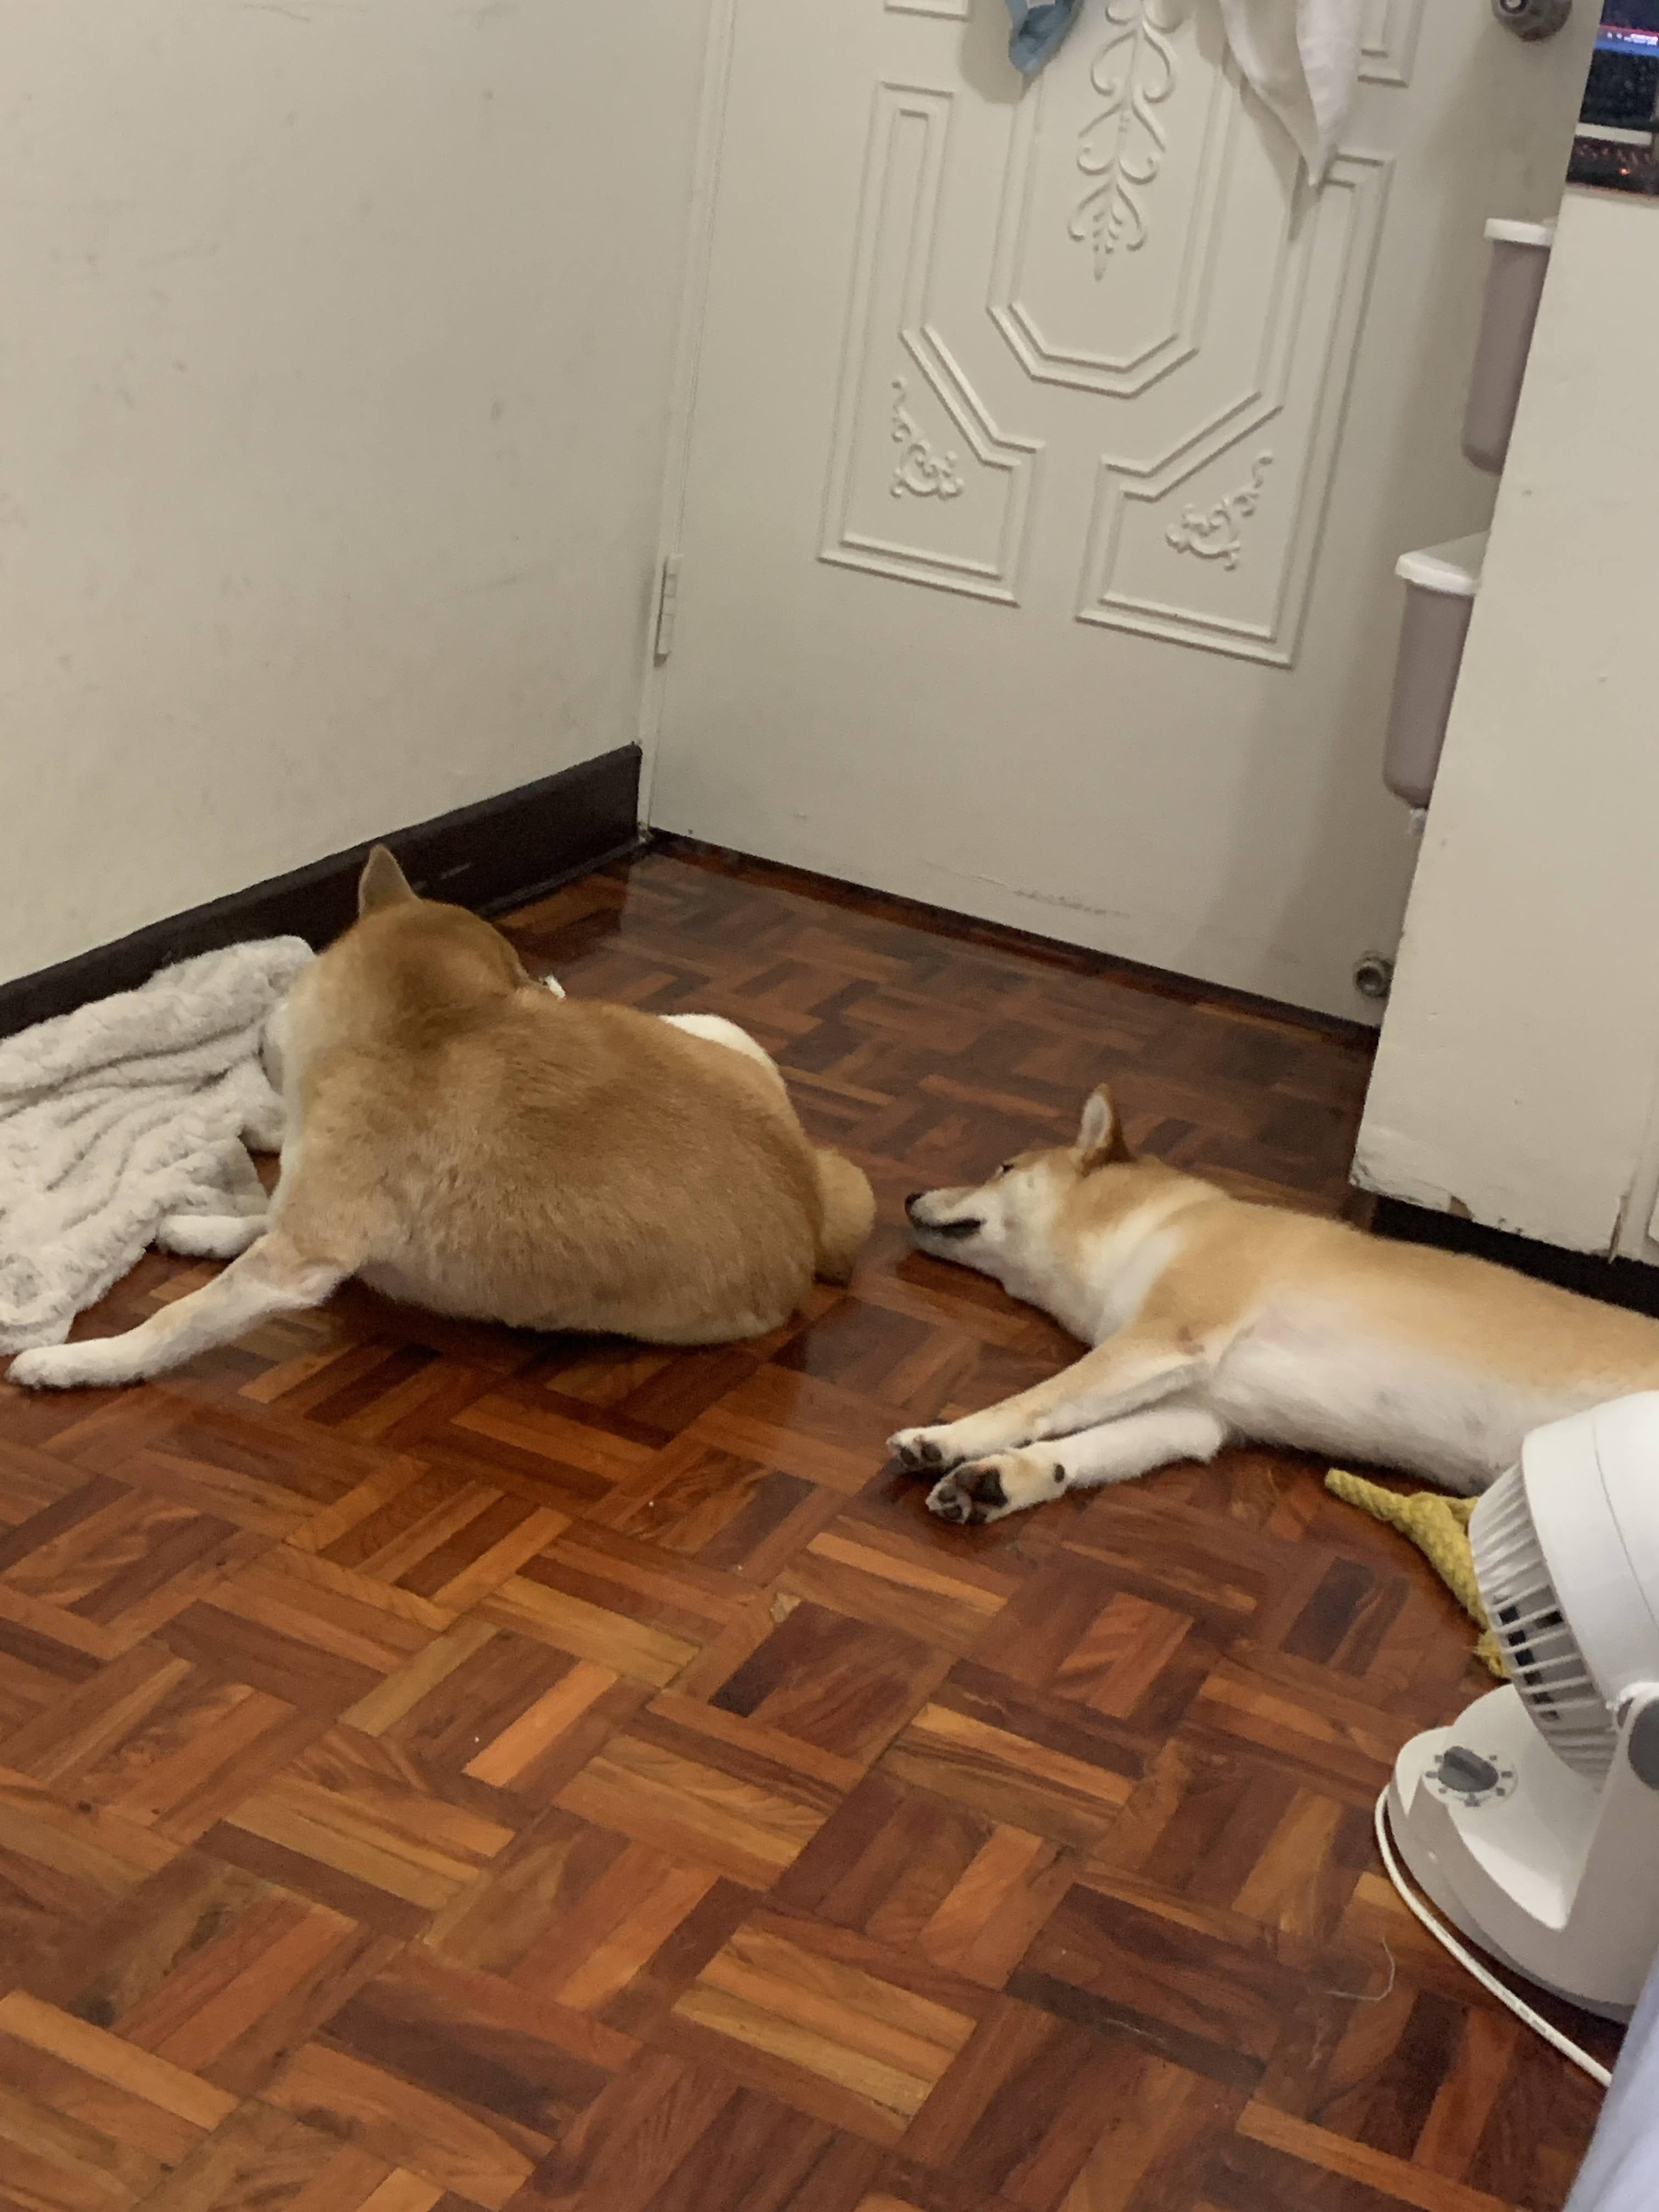Lie down: (91, 817, 875, 1454), (917, 1080, 1659, 1566)
